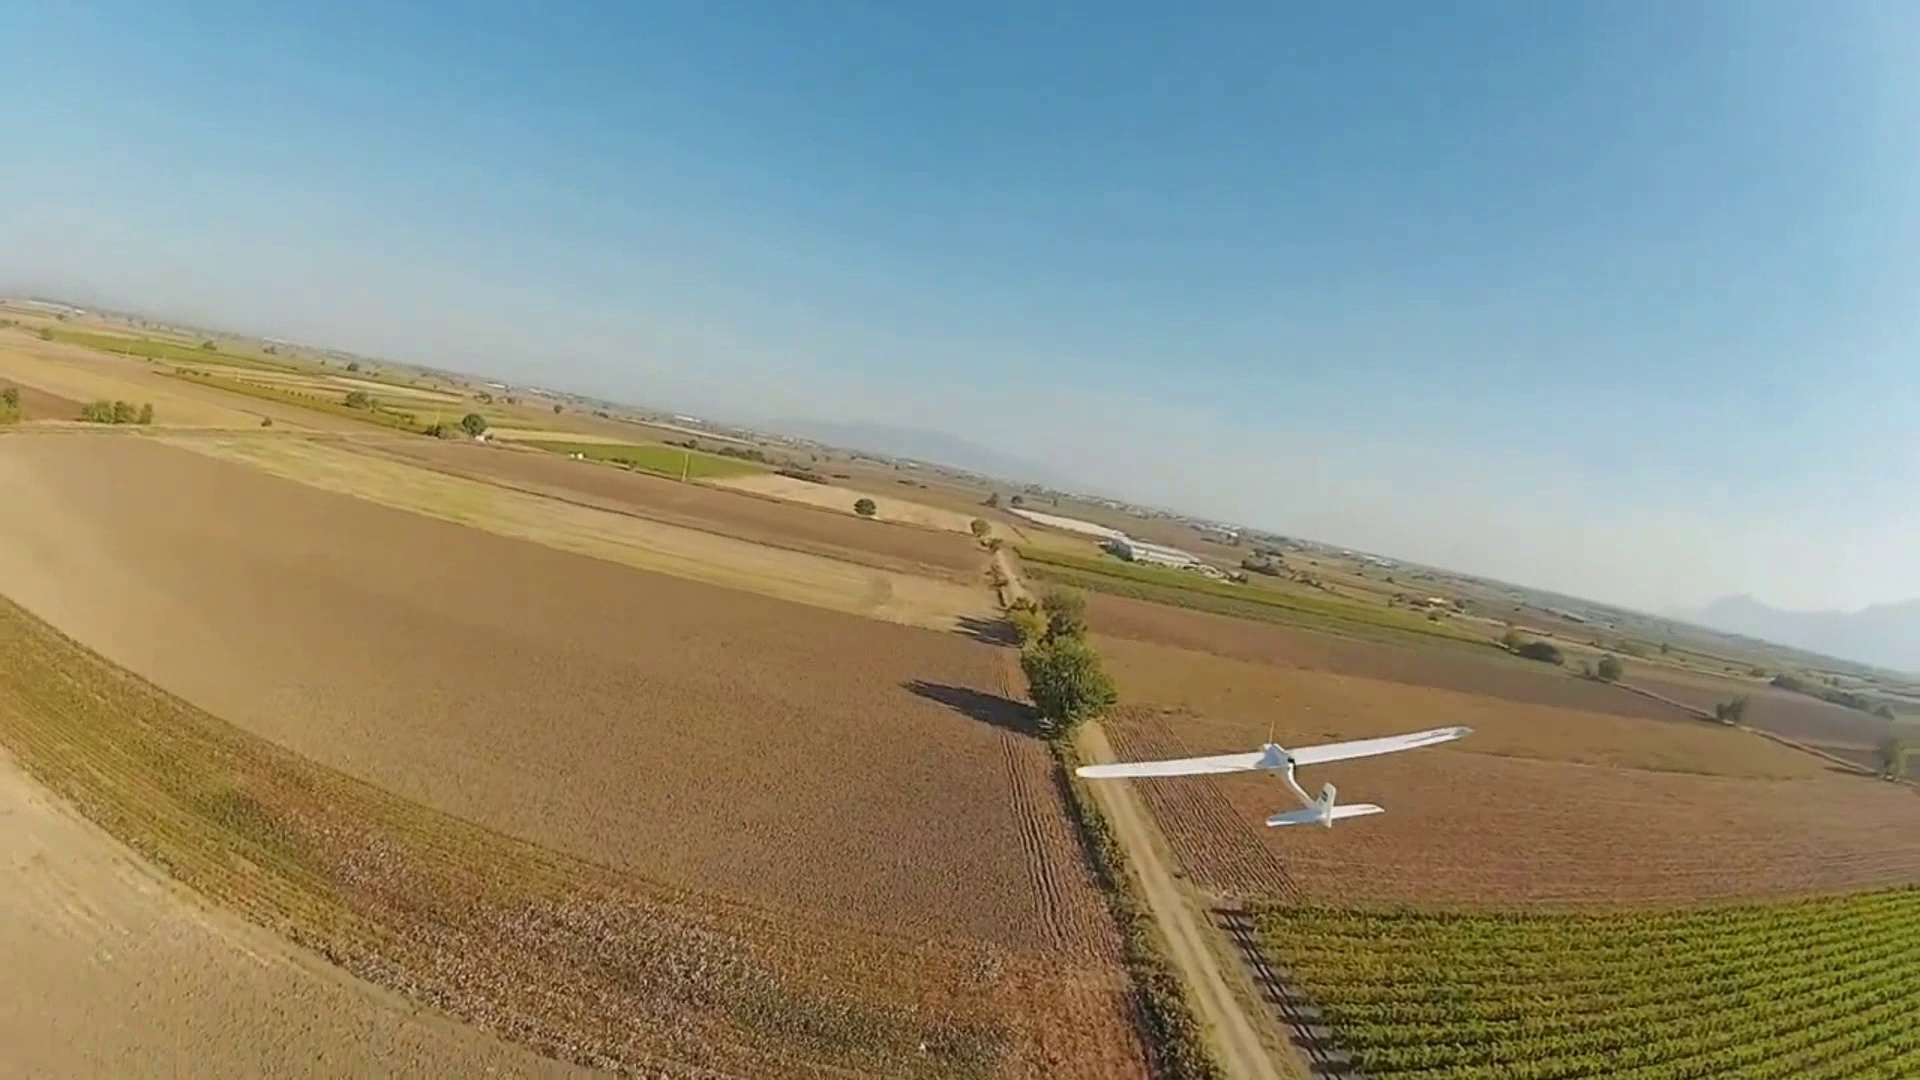airplane: (1067, 722, 1471, 831)
